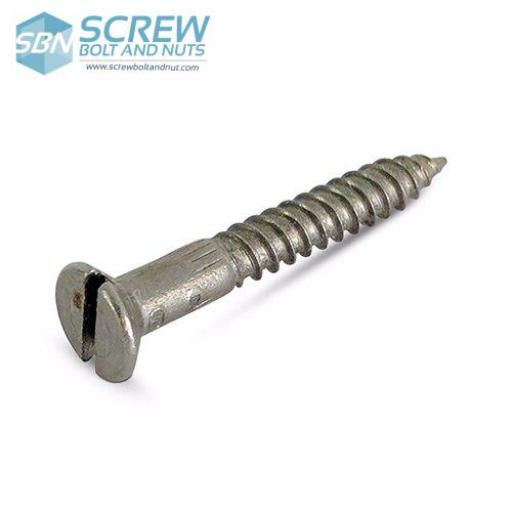Slotted: (49, 255, 147, 393)
